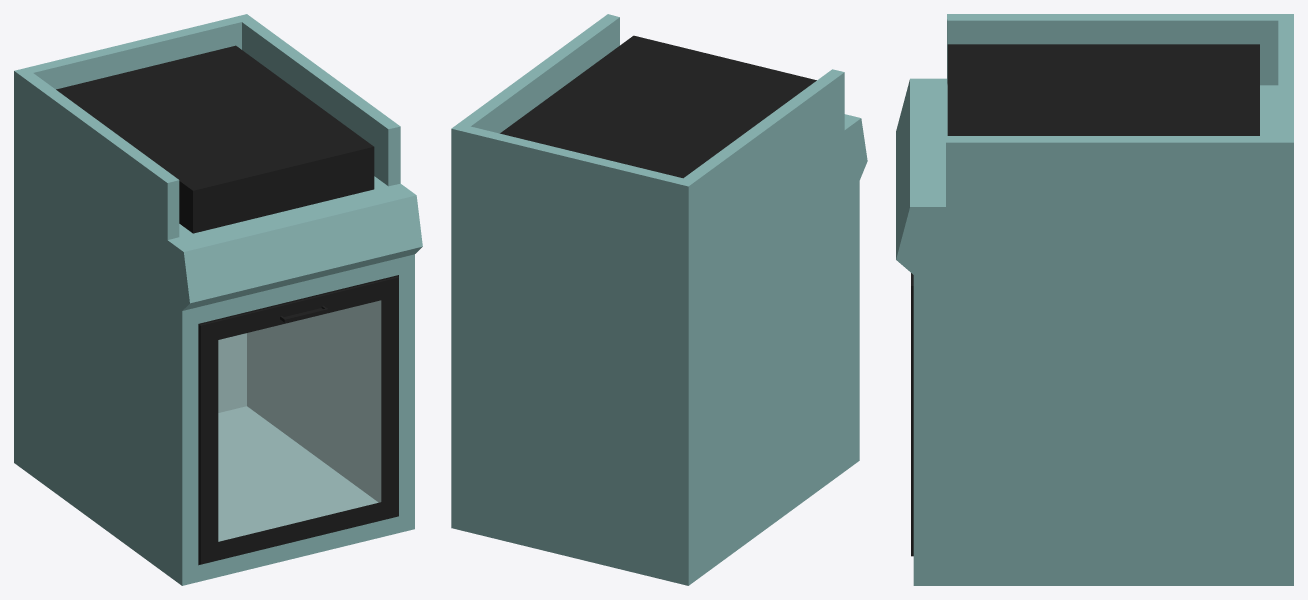
File: Stove02.fbx
3 views of the same model, side by side, from view 1: azimuth 30°, elevation 25°; view 2: azimuth 150°, elevation 25°; view 3: azimuth 270°, elevation 25° (orthographic). The views are drawn at different scales.
Visible parts, largest first — view 1: polySurface7, polySurface6, polySurface13, polySurface14, polySurface9; view 2: polySurface7, polySurface6; view 3: polySurface7, polySurface6, polySurface9.
Boxes of the visible parts, x1,y1,x2,y2 form: polySurface7: (14, 14, 422, 585); polySurface6: (56, 45, 374, 233); polySurface13: (218, 300, 380, 541); polySurface14: (200, 277, 398, 564); polySurface9: (198, 275, 398, 565); polySurface7: (451, 14, 867, 585); polySurface6: (500, 35, 816, 178); polySurface7: (896, 14, 1293, 585); polySurface6: (947, 44, 1259, 135); polySurface9: (911, 273, 913, 556).
Size of the model in its own units: 80 by 129 by 105.
